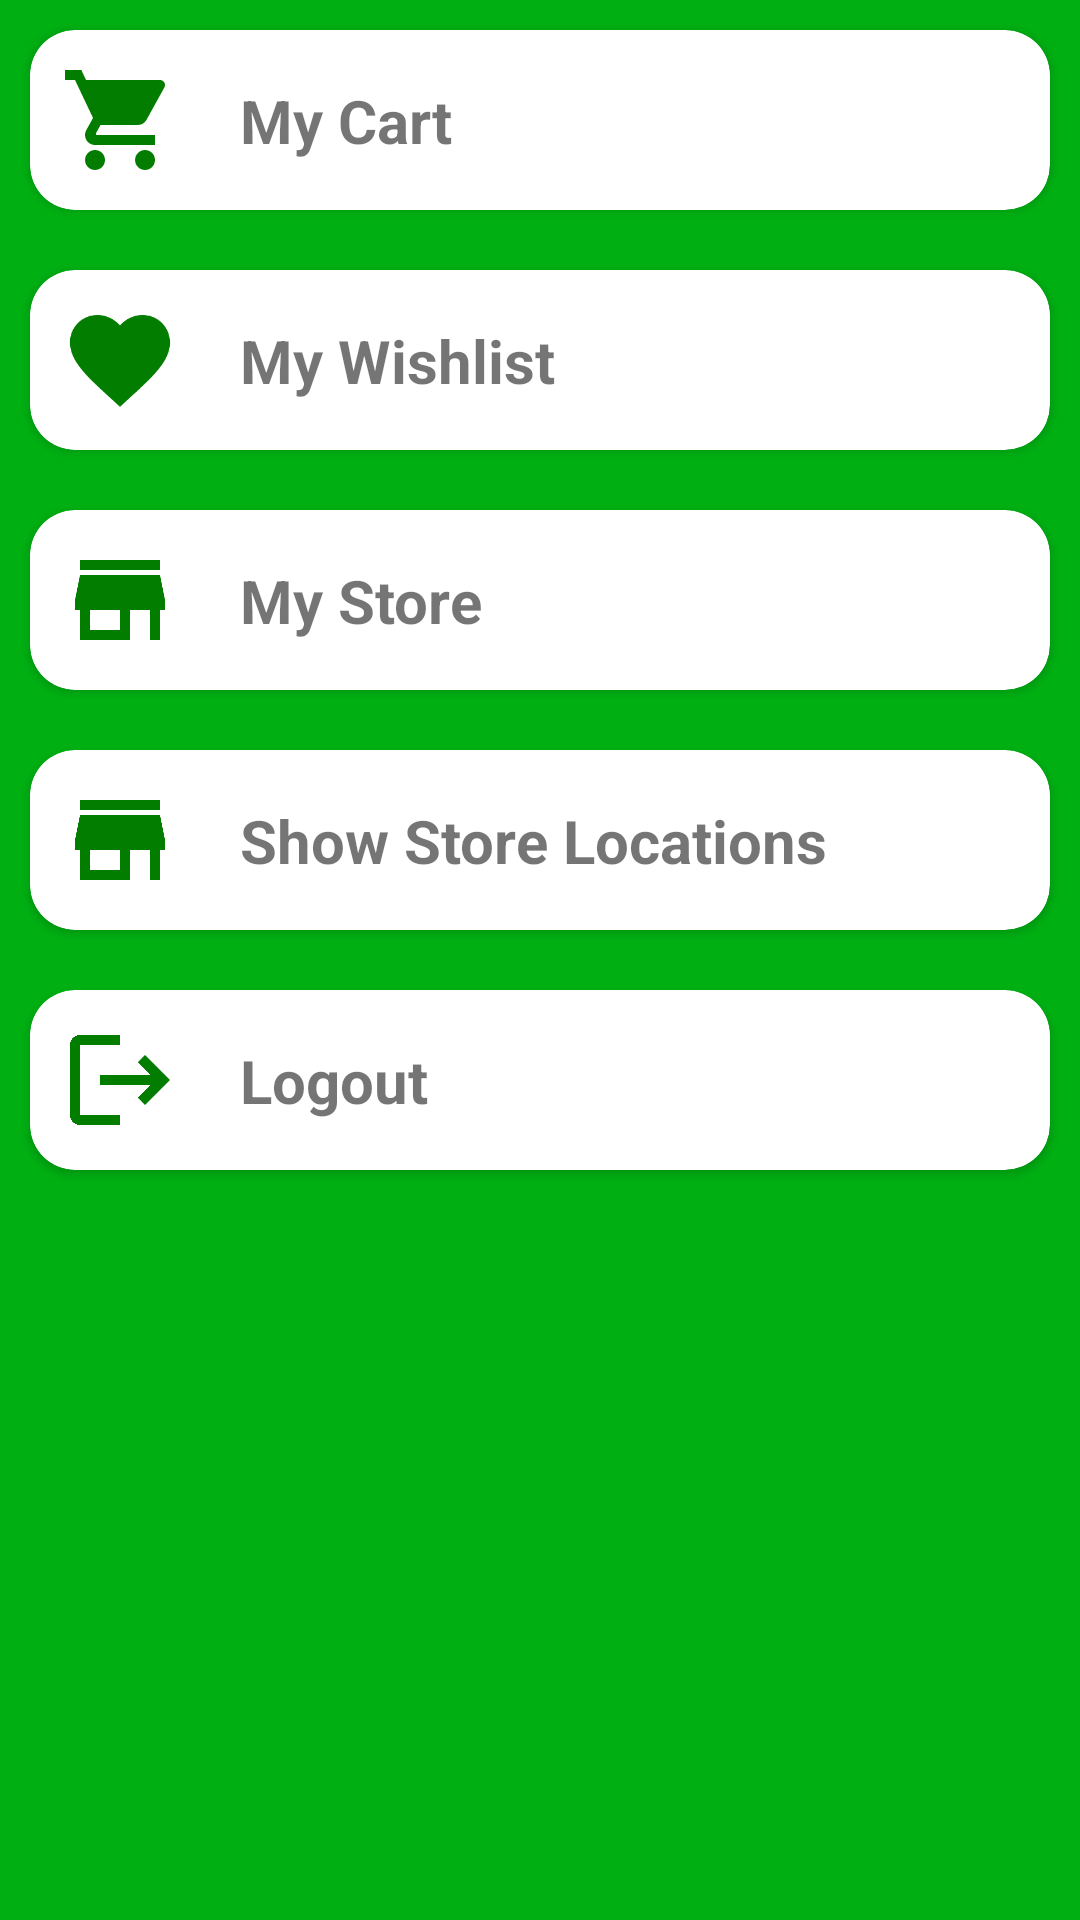

Screen size 1080w x 1920h. Icon name, then its center in pixels as (x,y):
favorite: (120,361)
shopping cart: (115,120)
